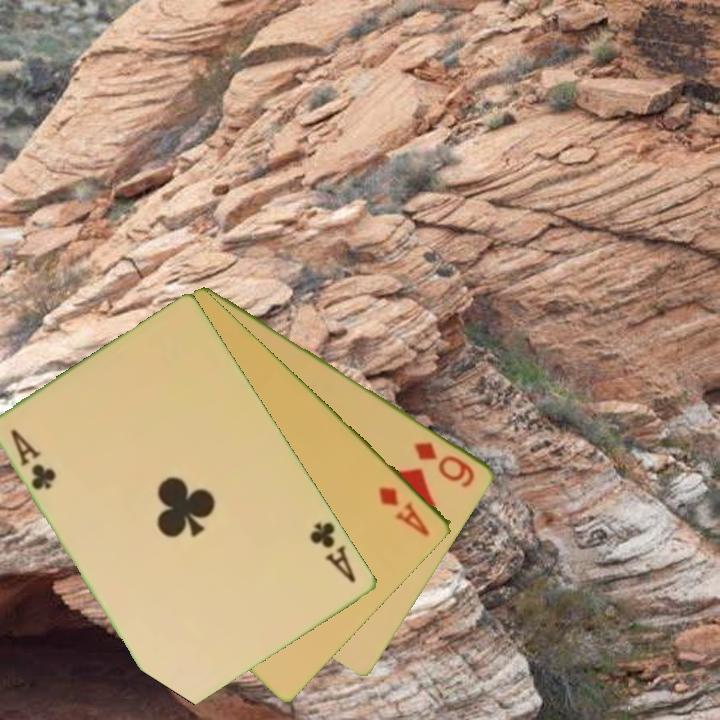6d: (411, 438, 479, 491)
Ac: (7, 425, 60, 494), (306, 518, 359, 586)
Ad: (375, 483, 433, 540)
